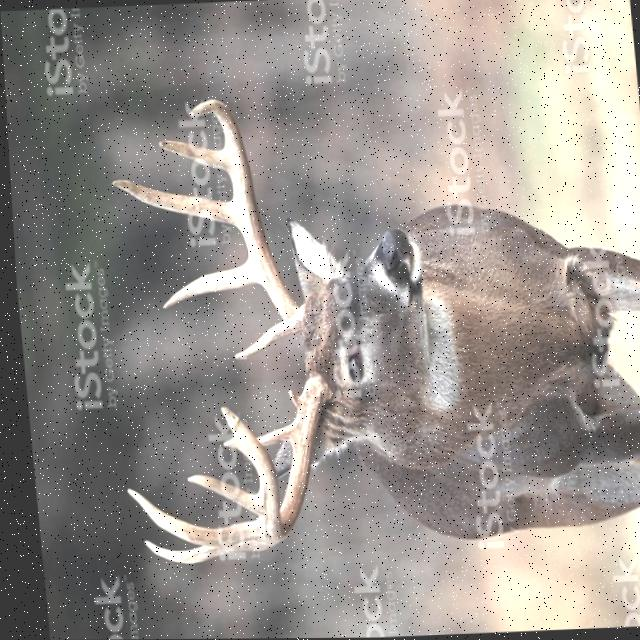E1: (282, 389, 295, 409)
E2: (216, 438, 230, 448)
L-F: (187, 99, 301, 327)
L-G1: (228, 318, 296, 360)
L-G2: (158, 257, 257, 309)
L-G3: (108, 179, 234, 230)
L-G4: (156, 139, 226, 175)
R-F: (215, 371, 326, 542)
R-G1: (251, 423, 286, 446)
R-G3: (120, 488, 260, 548)
